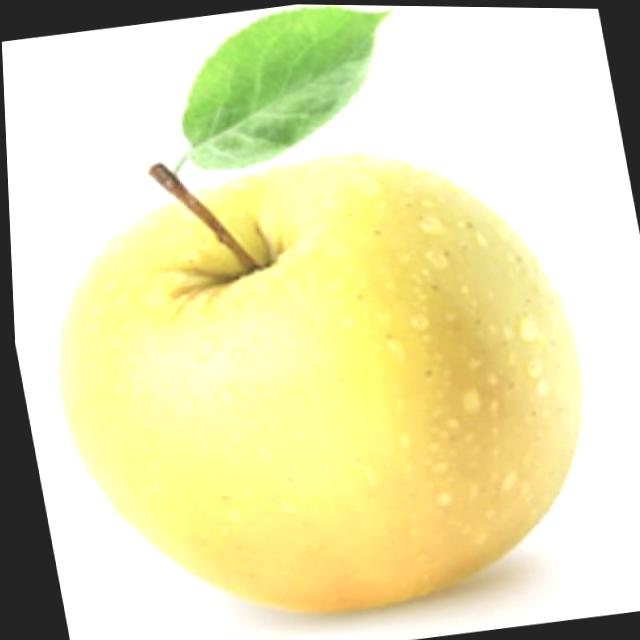Apple: (15, 107, 618, 640)
